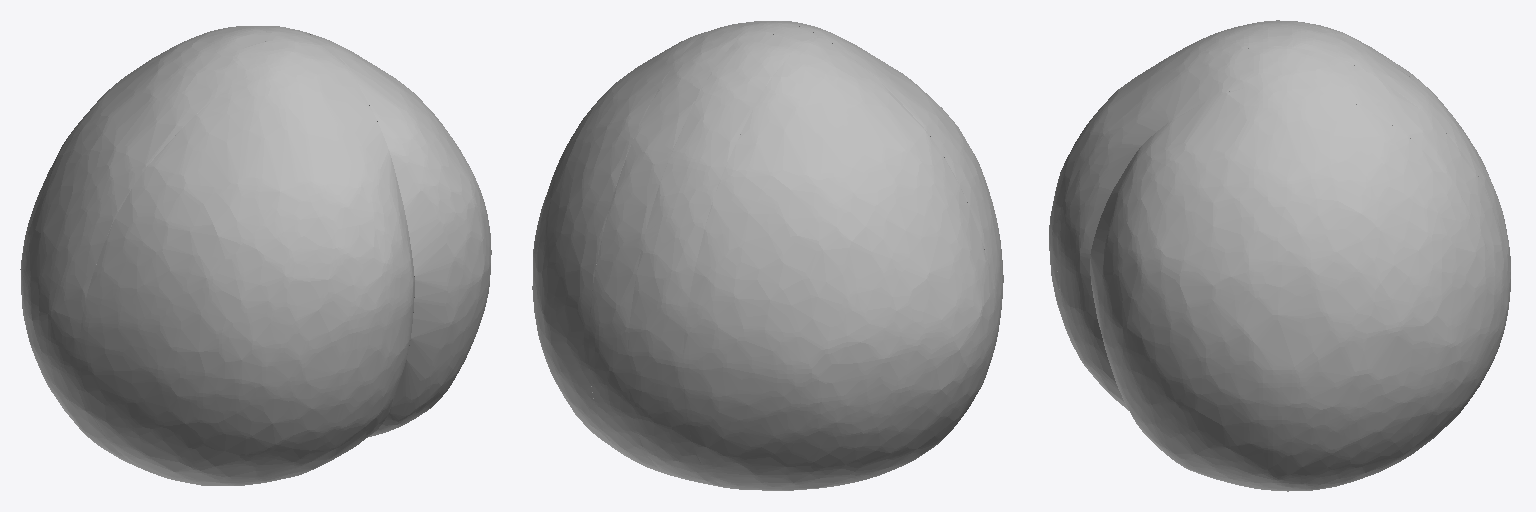
robot.urdf — root:
<robot name="root">
  <link name="link_coacd_convex_piece_0">
    <inertial>
      <origin xyz="0 0 0" rpy="0 0 0"/>
      <inertia ixx="1.50E-01" ixy="-8.05E-04" ixz="3.46E-02" iyy="2.62E-01" iyz="4.95E-03" izz="2.51E-01"/>
    </inertial>
    <visual>
      <origin xyz="0 0 0" rpy="0 0 0"/>
      <geometry>
        <mesh filename="coacd_convex_piece_0.obj" scale="1.0000E+00 1.0000E+00 1.0000E+00"/>
      </geometry>
      <material name="">
        <color rgba="7.50E-01 7.50E-01 7.50E-01 1"/>
      </material>
    </visual>
    <collision>
      <origin xyz="0 0 0" rpy="0 0 0"/>
      <geometry>
        <mesh filename="coacd_convex_piece_0.obj" scale="1.0000E+00 1.0000E+00 1.0000E+00"/>
      </geometry>
    </collision>
  </link>
  <link name="link_coacd_convex_piece_1">
    <inertial>
      <origin xyz="0 0 0" rpy="0 0 0"/>
      <inertia ixx="1.19E-01" ixy="-1.98E-03" ixz="3.47E-03" iyy="7.36E-02" iyz="4.16E-03" izz="7.51E-02"/>
    </inertial>
    <visual>
      <origin xyz="0 0 0" rpy="0 0 0"/>
      <geometry>
        <mesh filename="coacd_convex_piece_1.obj" scale="1.0000E+00 1.0000E+00 1.0000E+00"/>
      </geometry>
      <material name="">
        <color rgba="7.50E-01 7.50E-01 7.50E-01 1"/>
      </material>
    </visual>
    <collision>
      <origin xyz="0 0 0" rpy="0 0 0"/>
      <geometry>
        <mesh filename="coacd_convex_piece_1.obj" scale="1.0000E+00 1.0000E+00 1.0000E+00"/>
      </geometry>
    </collision>
  </link>
  <joint name="link_coacd_convex_piece_1_joint" type="fixed">
    <origin xyz="0 0 0" rpy="0 0 0"/>
    <parent link="link_coacd_convex_piece_0"/>
    <child link="link_coacd_convex_piece_1"/>
  </joint>
  <link name="link_coacd_convex_piece_2">
    <inertial>
      <origin xyz="0 0 0" rpy="0 0 0"/>
      <inertia ixx="7.81E-02" ixy="1.18E-03" ixz="-2.07E-04" iyy="3.62E-02" iyz="6.94E-03" izz="4.38E-02"/>
    </inertial>
    <visual>
      <origin xyz="0 0 0" rpy="0 0 0"/>
      <geometry>
        <mesh filename="coacd_convex_piece_2.obj" scale="1.0000E+00 1.0000E+00 1.0000E+00"/>
      </geometry>
      <material name="">
        <color rgba="7.50E-01 7.50E-01 7.50E-01 1"/>
      </material>
    </visual>
    <collision>
      <origin xyz="0 0 0" rpy="0 0 0"/>
      <geometry>
        <mesh filename="coacd_convex_piece_2.obj" scale="1.0000E+00 1.0000E+00 1.0000E+00"/>
      </geometry>
    </collision>
  </link>
  <joint name="link_coacd_convex_piece_2_joint" type="fixed">
    <origin xyz="0 0 0" rpy="0 0 0"/>
    <parent link="link_coacd_convex_piece_1"/>
    <child link="link_coacd_convex_piece_2"/>
  </joint>
  <link name="link_coacd_convex_piece_3">
    <inertial>
      <origin xyz="0 0 0" rpy="0 0 0"/>
      <inertia ixx="1.56E-01" ixy="4.72E-02" ixz="-2.88E-02" iyy="2.21E-01" iyz="1.42E-02" izz="1.95E-01"/>
    </inertial>
    <visual>
      <origin xyz="0 0 0" rpy="0 0 0"/>
      <geometry>
        <mesh filename="coacd_convex_piece_3.obj" scale="1.0000E+00 1.0000E+00 1.0000E+00"/>
      </geometry>
      <material name="">
        <color rgba="7.50E-01 7.50E-01 7.50E-01 1"/>
      </material>
    </visual>
    <collision>
      <origin xyz="0 0 0" rpy="0 0 0"/>
      <geometry>
        <mesh filename="coacd_convex_piece_3.obj" scale="1.0000E+00 1.0000E+00 1.0000E+00"/>
      </geometry>
    </collision>
  </link>
  <joint name="link_coacd_convex_piece_3_joint" type="fixed">
    <origin xyz="0 0 0" rpy="0 0 0"/>
    <parent link="link_coacd_convex_piece_2"/>
    <child link="link_coacd_convex_piece_3"/>
  </joint>
  <link name="link_coacd_convex_piece_4">
    <inertial>
      <origin xyz="0 0 0" rpy="0 0 0"/>
      <inertia ixx="1.76E-01" ixy="-5.27E-02" ixz="-1.46E-02" iyy="1.24E-01" iyz="-1.86E-02" izz="1.69E-01"/>
    </inertial>
    <visual>
      <origin xyz="0 0 0" rpy="0 0 0"/>
      <geometry>
        <mesh filename="coacd_convex_piece_4.obj" scale="1.0000E+00 1.0000E+00 1.0000E+00"/>
      </geometry>
      <material name="">
        <color rgba="7.50E-01 7.50E-01 7.50E-01 1"/>
      </material>
    </visual>
    <collision>
      <origin xyz="0 0 0" rpy="0 0 0"/>
      <geometry>
        <mesh filename="coacd_convex_piece_4.obj" scale="1.0000E+00 1.0000E+00 1.0000E+00"/>
      </geometry>
    </collision>
  </link>
  <joint name="link_coacd_convex_piece_4_joint" type="fixed">
    <origin xyz="0 0 0" rpy="0 0 0"/>
    <parent link="link_coacd_convex_piece_3"/>
    <child link="link_coacd_convex_piece_4"/>
  </joint>
  <link name="link_coacd_convex_piece_5">
    <inertial>
      <origin xyz="0 0 0" rpy="0 0 0"/>
      <inertia ixx="1.03E-02" ixy="-5.43E-05" ixz="-1.77E-05" iyy="9.80E-03" iyz="9.20E-05" izz="8.70E-04"/>
    </inertial>
    <visual>
      <origin xyz="0 0 0" rpy="0 0 0"/>
      <geometry>
        <mesh filename="coacd_convex_piece_5.obj" scale="1.0000E+00 1.0000E+00 1.0000E+00"/>
      </geometry>
      <material name="">
        <color rgba="7.50E-01 7.50E-01 7.50E-01 1"/>
      </material>
    </visual>
    <collision>
      <origin xyz="0 0 0" rpy="0 0 0"/>
      <geometry>
        <mesh filename="coacd_convex_piece_5.obj" scale="1.0000E+00 1.0000E+00 1.0000E+00"/>
      </geometry>
    </collision>
  </link>
  <joint name="link_coacd_convex_piece_5_joint" type="fixed">
    <origin xyz="0 0 0" rpy="0 0 0"/>
    <parent link="link_coacd_convex_piece_4"/>
    <child link="link_coacd_convex_piece_5"/>
  </joint>
  <link name="link_coacd_convex_piece_6">
    <inertial>
      <origin xyz="0 0 0" rpy="0 0 0"/>
      <inertia ixx="5.73E-03" ixy="1.14E-06" ixz="-6.72E-07" iyy="5.83E-03" iyz="-6.11E-06" izz="1.30E-04"/>
    </inertial>
    <visual>
      <origin xyz="0 0 0" rpy="0 0 0"/>
      <geometry>
        <mesh filename="coacd_convex_piece_6.obj" scale="1.0000E+00 1.0000E+00 1.0000E+00"/>
      </geometry>
      <material name="">
        <color rgba="7.50E-01 7.50E-01 7.50E-01 1"/>
      </material>
    </visual>
    <collision>
      <origin xyz="0 0 0" rpy="0 0 0"/>
      <geometry>
        <mesh filename="coacd_convex_piece_6.obj" scale="1.0000E+00 1.0000E+00 1.0000E+00"/>
      </geometry>
    </collision>
  </link>
  <joint name="link_coacd_convex_piece_6_joint" type="fixed">
    <origin xyz="0 0 0" rpy="0 0 0"/>
    <parent link="link_coacd_convex_piece_5"/>
    <child link="link_coacd_convex_piece_6"/>
  </joint>
</robot>

--- Render facts (derived) ---
3 views of the same robot in one strip: view 1: azimuth 30°, elevation 25°; view 2: azimuth 150°, elevation 25°; view 3: azimuth 270°, elevation 25° (orthographic).
Robot: root — 7 links, 6 joints (6 fixed); root link link_coacd_convex_piece_0; default pose: all joints at 0.
Visible links, largest first — view 1: link_coacd_convex_piece_4, link_coacd_convex_piece_3, link_coacd_convex_piece_0, link_coacd_convex_piece_1, link_coacd_convex_piece_5, link_coacd_convex_piece_2, link_coacd_convex_piece_6; view 2: link_coacd_convex_piece_3, link_coacd_convex_piece_2, link_coacd_convex_piece_0, link_coacd_convex_piece_1, link_coacd_convex_piece_4, link_coacd_convex_piece_5, link_coacd_convex_piece_6; view 3: link_coacd_convex_piece_0, link_coacd_convex_piece_1, link_coacd_convex_piece_4, link_coacd_convex_piece_2, link_coacd_convex_piece_5, link_coacd_convex_piece_3, link_coacd_convex_piece_6.
Boxes of the visible links, box(x1,y1,x2,y2) form: link_coacd_convex_piece_4: box(80, 59, 386, 485); link_coacd_convex_piece_3: box(20, 40, 249, 470); link_coacd_convex_piece_0: box(306, 32, 491, 436); link_coacd_convex_piece_1: box(253, 26, 414, 448); link_coacd_convex_piece_5: box(231, 39, 299, 73); link_coacd_convex_piece_2: box(184, 26, 267, 45); link_coacd_convex_piece_6: box(219, 31, 280, 53); link_coacd_convex_piece_3: box(683, 37, 994, 490); link_coacd_convex_piece_2: box(628, 39, 789, 487); link_coacd_convex_piece_0: box(532, 30, 711, 455); link_coacd_convex_piece_1: box(589, 21, 768, 474); link_coacd_convex_piece_4: box(770, 21, 1003, 405); link_coacd_convex_piece_5: box(750, 21, 820, 44); link_coacd_convex_piece_6: box(738, 30, 800, 53); link_coacd_convex_piece_0: box(1090, 84, 1496, 491); link_coacd_convex_piece_1: box(1057, 47, 1509, 426); link_coacd_convex_piece_4: box(1049, 29, 1229, 385); link_coacd_convex_piece_2: box(1293, 25, 1510, 309); link_coacd_convex_piece_5: box(1230, 24, 1268, 52); link_coacd_convex_piece_3: box(1230, 20, 1488, 174); link_coacd_convex_piece_6: box(1269, 24, 1292, 46).
Size in the robot's own frame: 1.77 by 1.7 by 1.64 metres.
7 mesh visuals loaded from 7 distinct referenced files (7 OBJ).